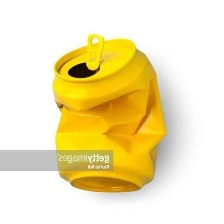can: (49, 31, 168, 196)
